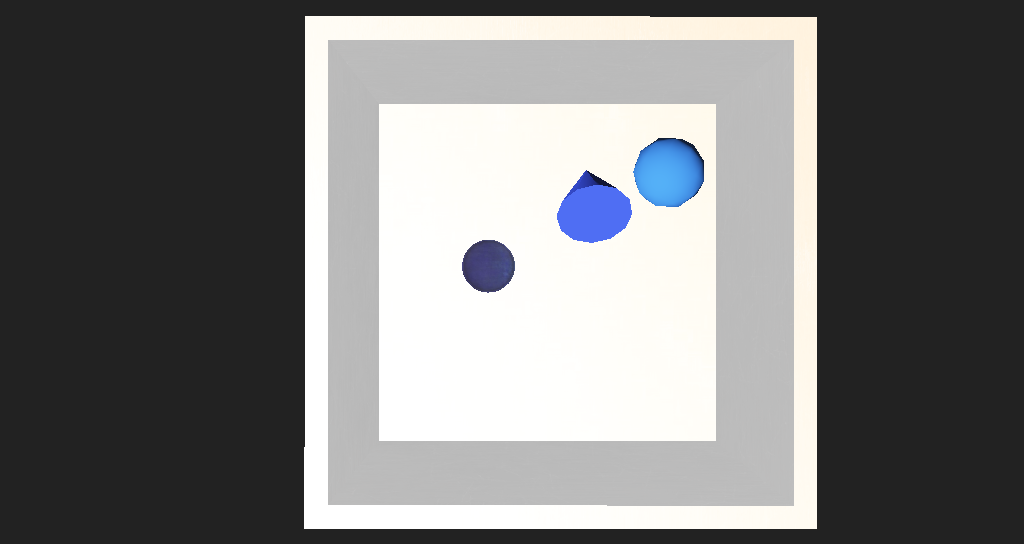cone: (424, 251, 478, 284)
cylinder: (512, 179, 579, 251)
sphere: (579, 181, 647, 229)
